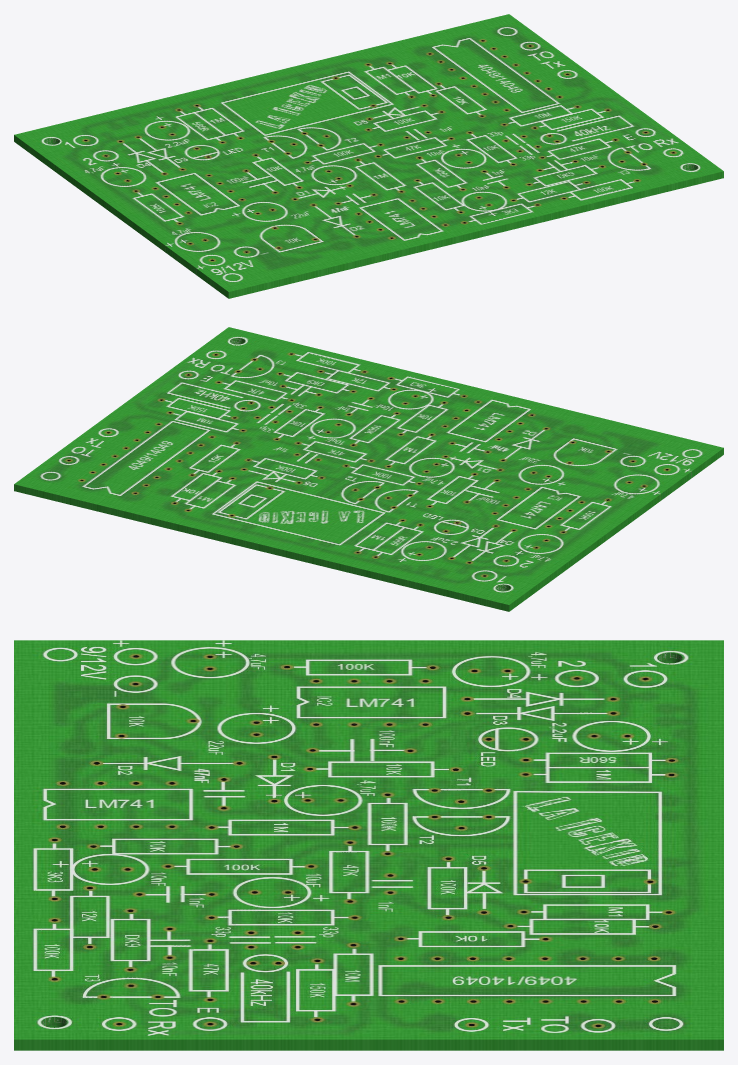
Rendered from CircuitBoard.fbx.
3 renders of one model, top to bottom at view 1: azimuth 30°, elevation 25°; view 2: azimuth 150°, elevation 25°; view 3: azimuth 270°, elevation 25°, orthographic. The views are drawn at different scales.
Visible parts, largest first — view 1: Circuit_board; view 2: Circuit_board; view 3: Circuit_board.
Boxes of the visible parts, <box> form: Circuit_board: <box>14,14,723,298</box>; Circuit_board: <box>14,327,723,611</box>; Circuit_board: <box>14,640,723,1050</box>.
Bounding box in the file's own units: 95.38 × 1.26 × 71.67.
Materials: 1 (1 with a texture image).
